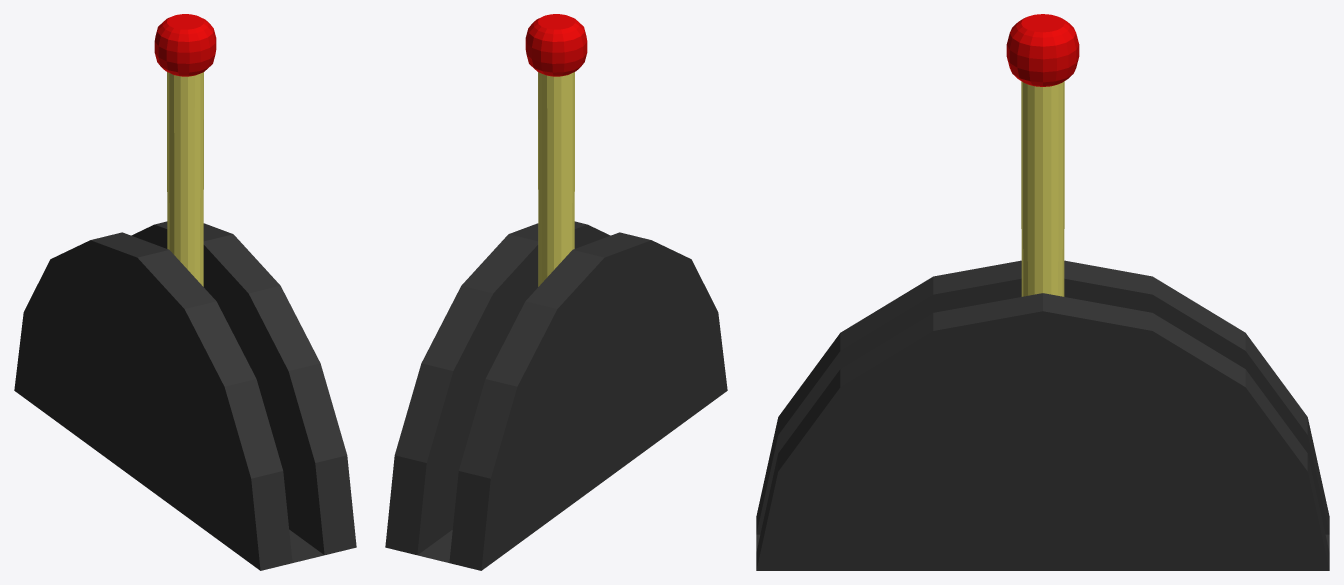
Rendered from lever.fbx.
3 renders of one model, left to right at view 1: azimuth 30°, elevation 25°; view 2: azimuth 150°, elevation 25°; view 3: azimuth 270°, elevation 25°, orthographic. The views are drawn at different scales.
Parts seen in each view (by area): view 1: Cylinder, Cylinder.001; view 2: Cylinder, Cylinder.001; view 3: Cylinder, Cylinder.001.
Part boxes in pixels (left/top/right/bottom): Cylinder: left=14, top=221, right=356, bottom=570; Cylinder.001: left=154, top=14, right=216, bottom=286; Cylinder: left=385, top=221, right=727, bottom=570; Cylinder.001: left=525, top=14, right=587, bottom=286; Cylinder: left=756, top=260, right=1329, bottom=570; Cylinder.001: left=1006, top=14, right=1079, bottom=296.
Bounding box in the file's own units: 223 × 993 × 991.
